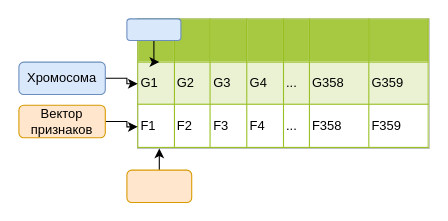
The diagram is 448 pixels wide and 221 high, and some of its shapes have lost their labels. The shapes that lost their labels are listed below. From the top down, each one's centre as x and y in pixels, then its label:
[153,29]: Ген
[159,185]: Признак
